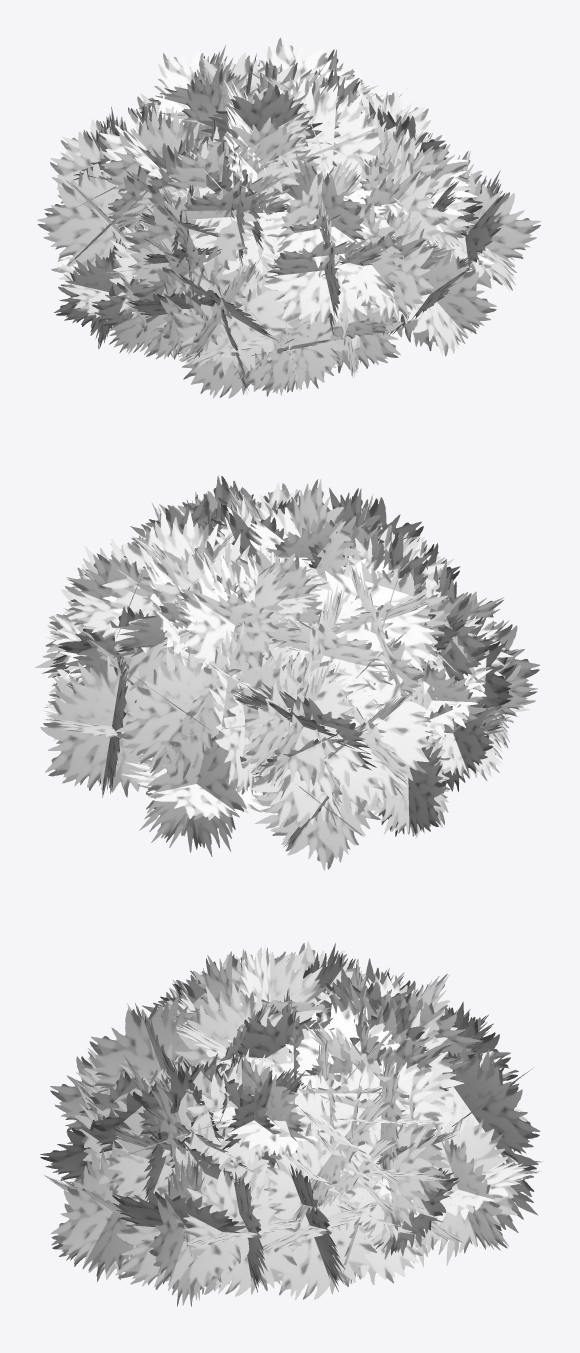
The model's file is Bush1.fbx.
The picture shows the model from 3 angles, top to bottom: view 1: azimuth 30°, elevation 25°; view 2: azimuth 150°, elevation 25°; view 3: azimuth 270°, elevation 25°; orthographic projection. The views are drawn at different scales.
Parts seen in each view (by area): view 1: Bush1_LOD0; view 2: Bush1_LOD0; view 3: Bush1_LOD0.
Boxes of the visible parts, bbox=[...] form: Bush1_LOD0: bbox=[37, 36, 541, 398]; Bush1_LOD0: bbox=[34, 476, 540, 870]; Bush1_LOD0: bbox=[40, 941, 543, 1306].
Size of what is drawn, in the model's own units: 2.87 by 1.93 by 2.9.
